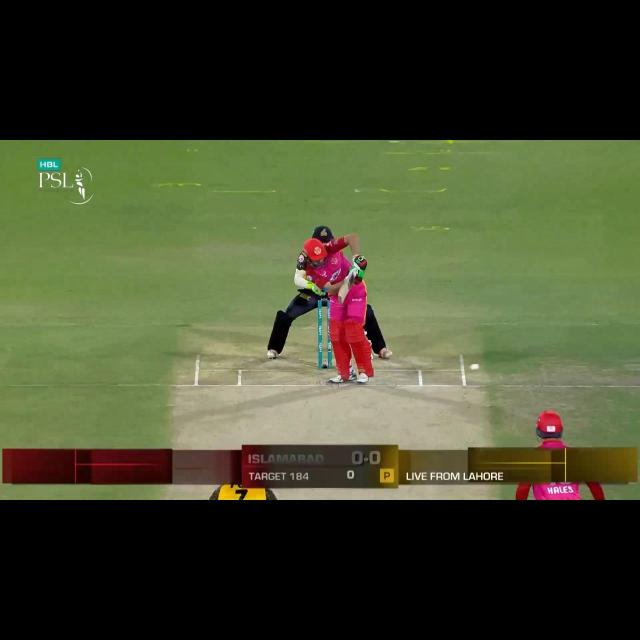bat: (337, 271, 356, 304)
toe: (336, 294, 345, 305)
